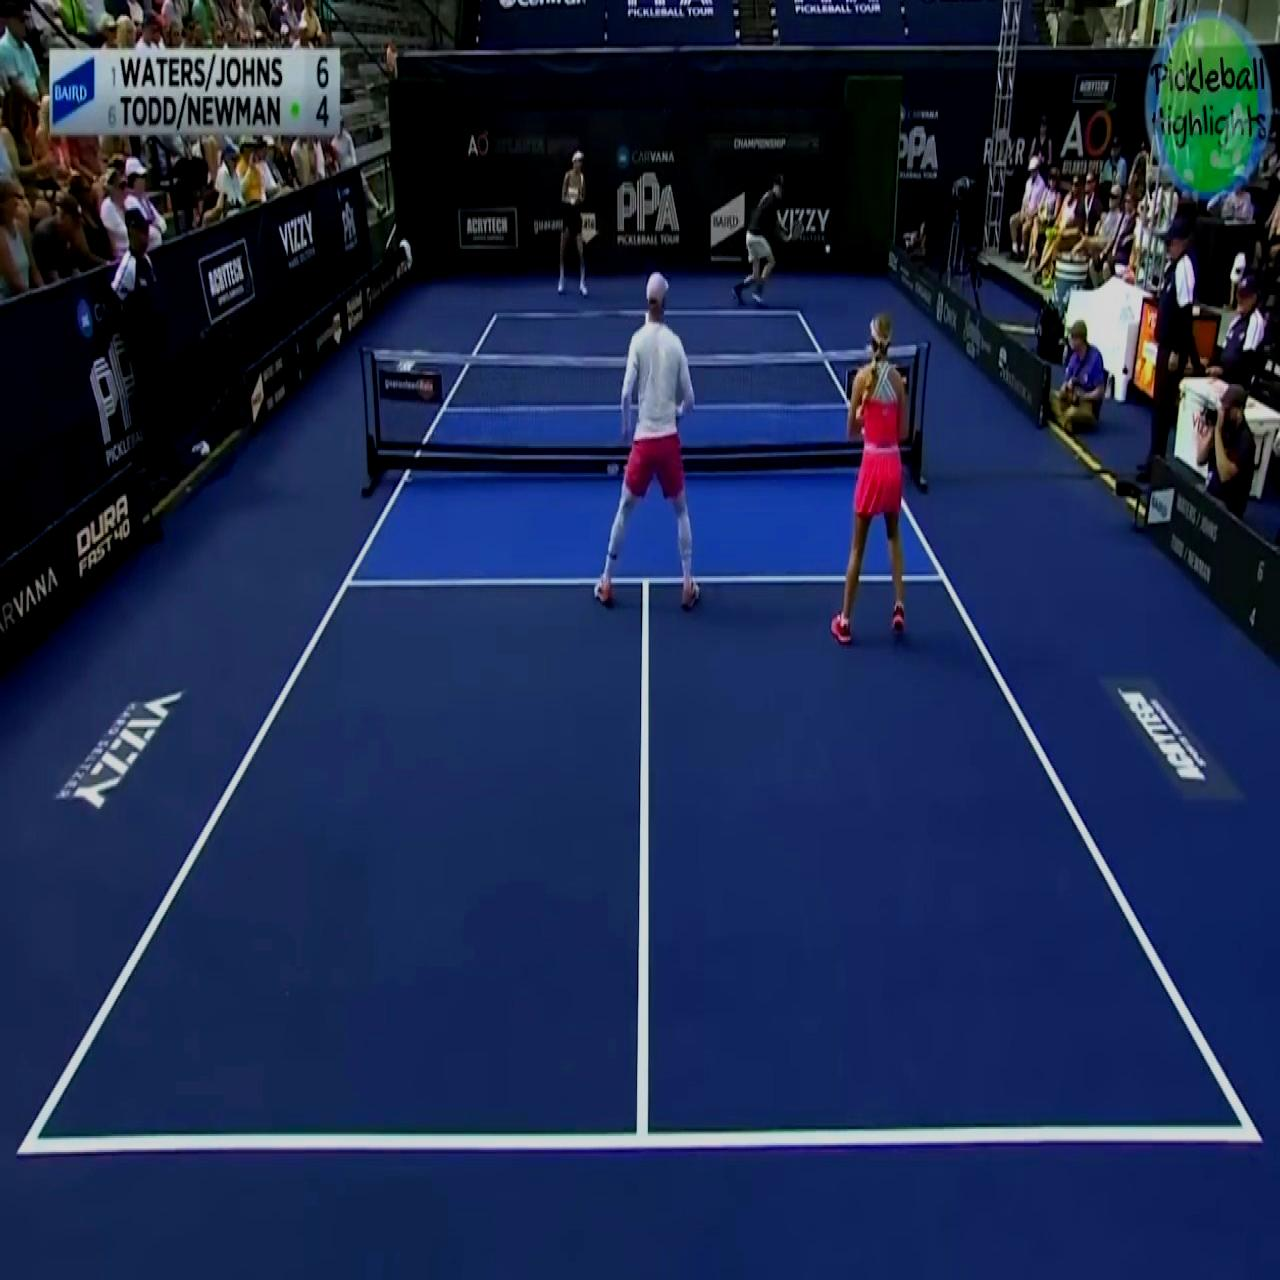Pickleball: (823, 238, 831, 254)
